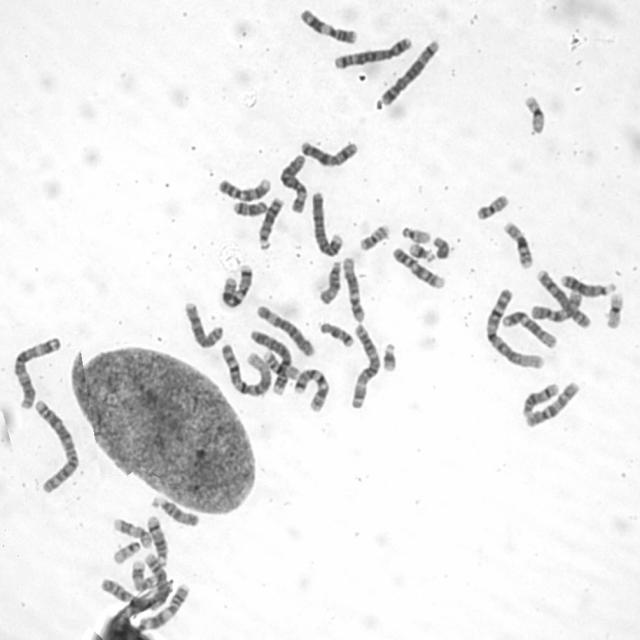A1: (483, 286, 545, 370), (217, 340, 273, 398)
A2: (30, 396, 81, 494), (100, 552, 172, 612)
A3: (11, 333, 63, 410), (347, 321, 380, 410)
B4: (248, 326, 296, 384), (309, 188, 345, 258)
B5: (378, 37, 441, 106), (331, 33, 415, 71)
C10: (521, 378, 583, 429), (528, 288, 584, 324)
C11: (134, 581, 190, 632), (296, 5, 359, 45)
C12: (500, 308, 559, 350), (340, 254, 367, 324)
C6: (254, 302, 318, 358), (277, 151, 309, 216)
C7: (291, 365, 331, 414), (219, 261, 255, 310)
C8: (536, 268, 592, 329), (181, 297, 226, 350)
C9: (389, 245, 447, 290), (214, 174, 274, 202)
D13: (255, 194, 285, 250), (558, 270, 616, 298)
D14: (518, 380, 560, 420), (144, 512, 168, 567)
D15: (150, 493, 201, 528), (316, 258, 344, 305)
E16: (500, 218, 534, 271), (260, 347, 300, 381)
E17: (111, 515, 153, 549), (130, 558, 158, 594)
E18: (317, 318, 355, 350), (230, 198, 269, 218)
F19: (521, 92, 547, 136), (603, 289, 624, 331)
F20: (356, 222, 392, 252), (474, 192, 511, 221)
G21: (407, 240, 437, 263), (380, 338, 399, 373)
G22: (111, 538, 141, 564), (399, 223, 431, 244)
X: (296, 136, 361, 168)
Y: (430, 232, 451, 260)
